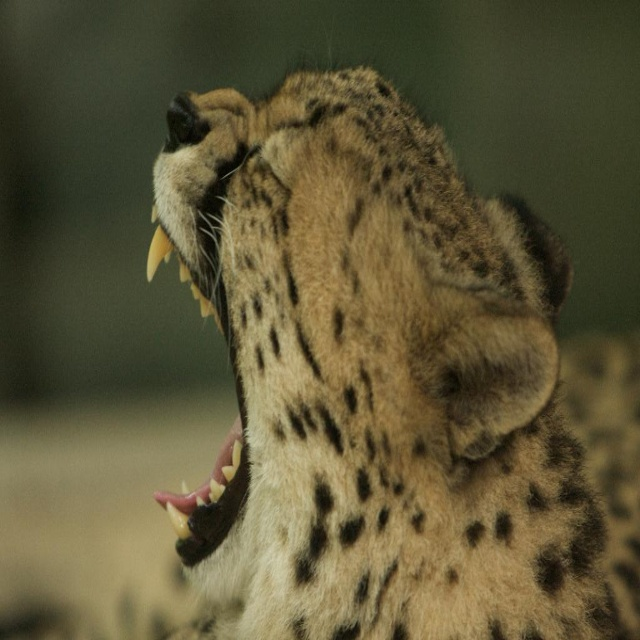Cheetah: (146, 62, 640, 640)
